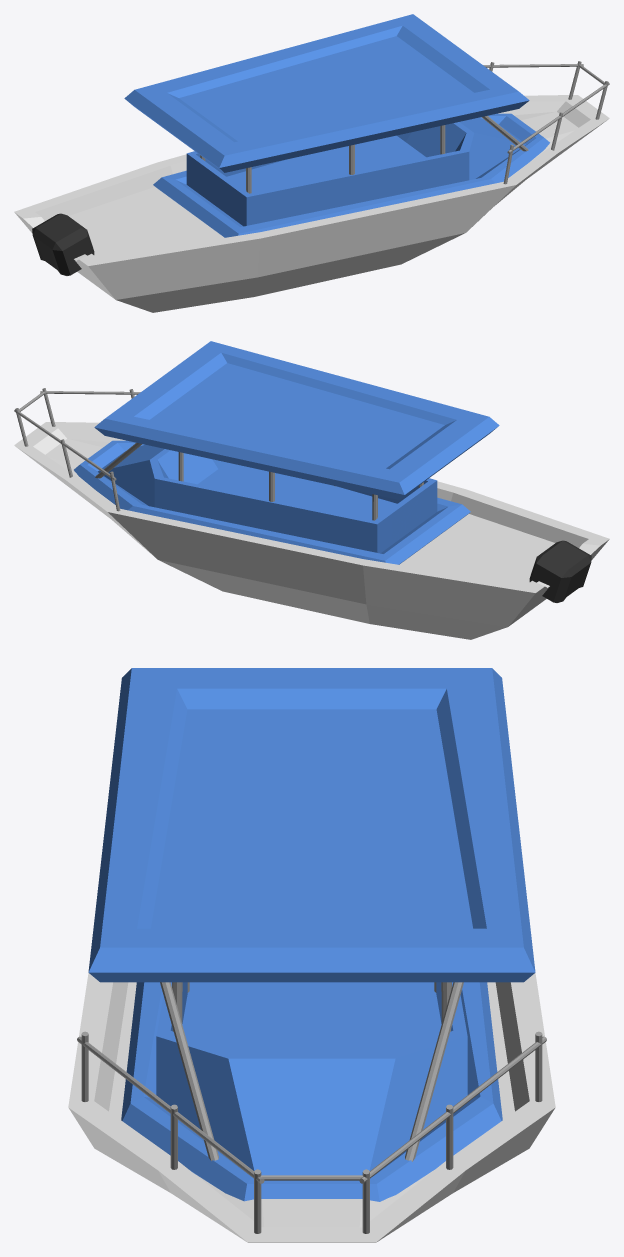
The model's file is BoatWhole.fbx.
3 renders of one model, top to bottom at view 1: azimuth 30°, elevation 25°; view 2: azimuth 150°, elevation 25°; view 3: azimuth 270°, elevation 25°, orthographic. The views are drawn at different scales.
Parts seen in each view (by area): view 1: Boat; view 2: Boat; view 3: Boat.
Boxes of the visible parts, <box> form: Boat: <box>14,14,609,312</box>; Boat: <box>14,341,609,639</box>; Boat: <box>68,668,555,1242</box>.
Bounding box in the file's own units: 10293 × 2719 × 3921.
